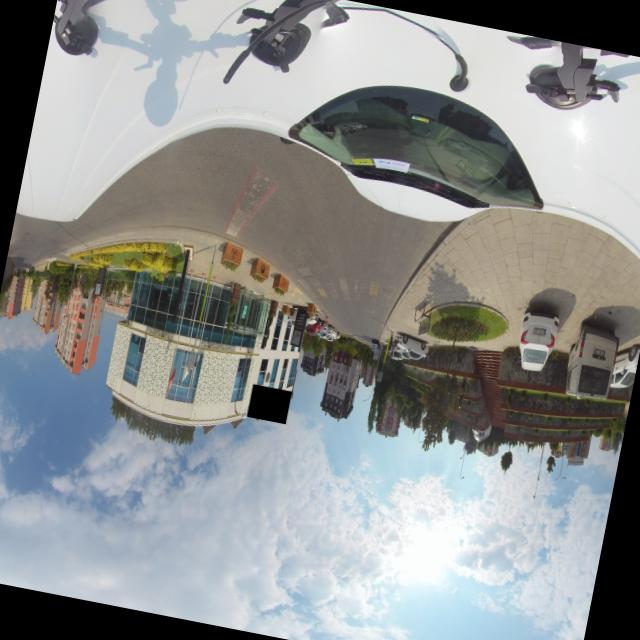SignStore: (246, 390, 291, 415)
